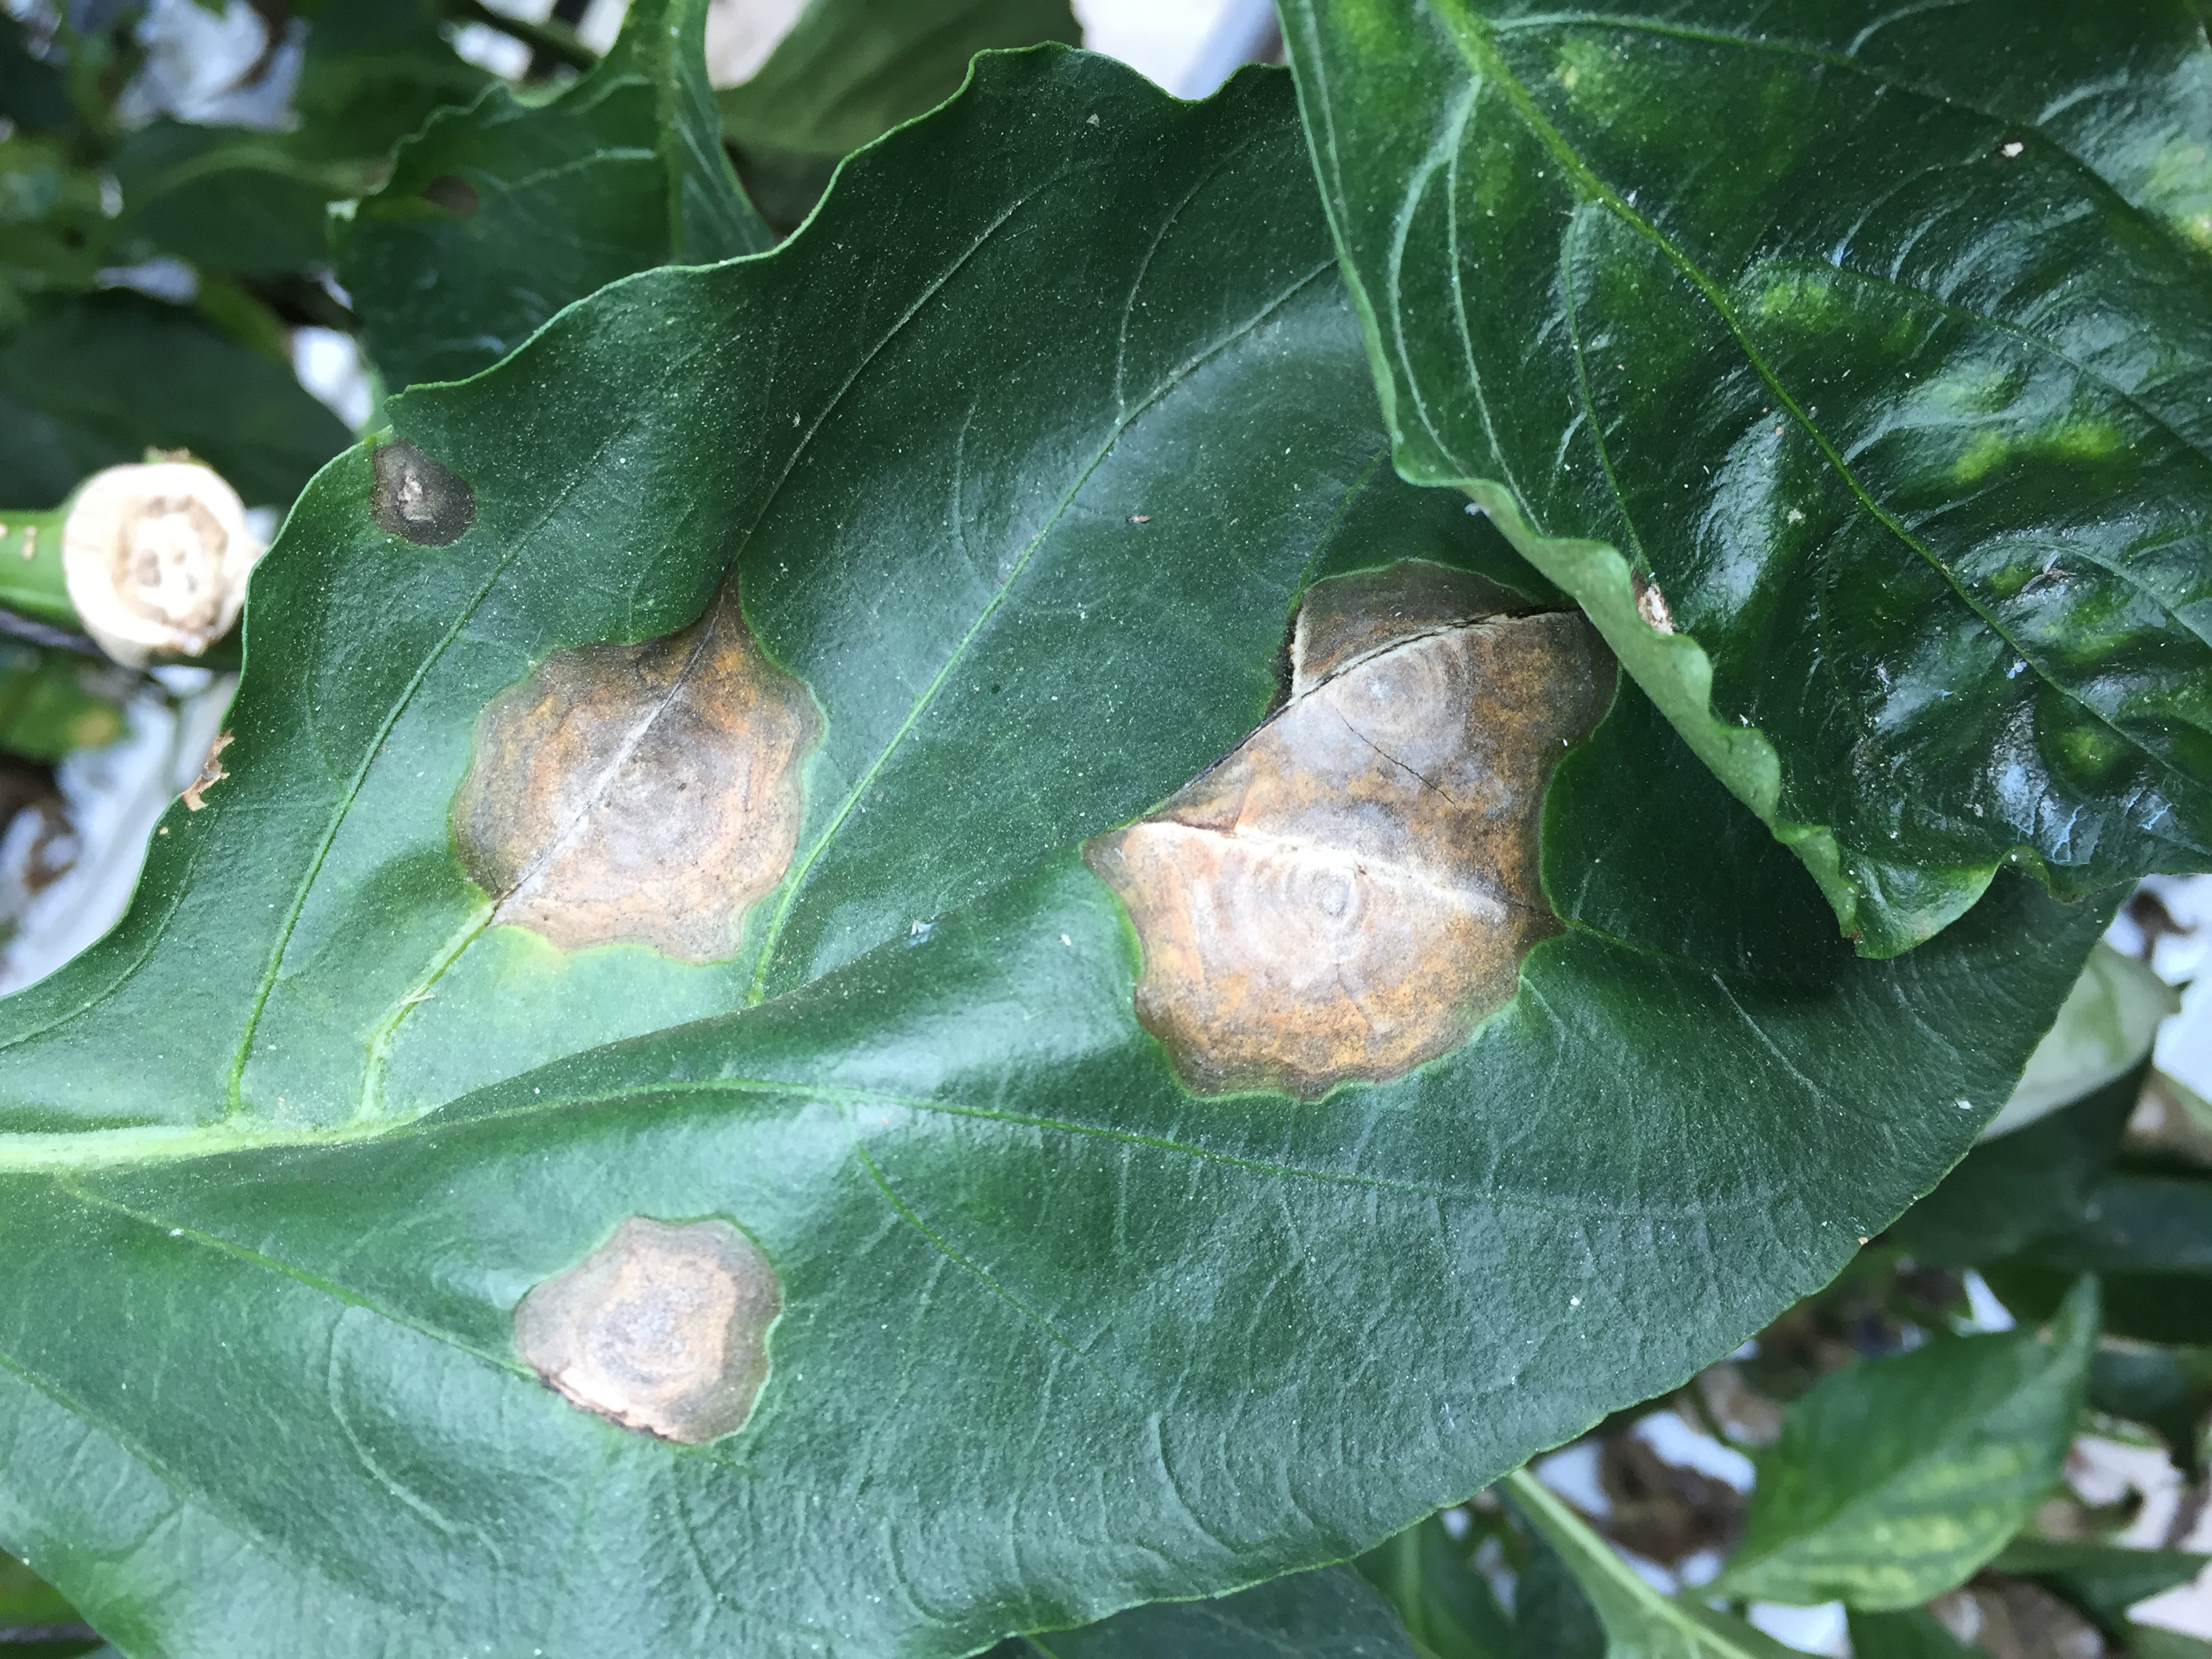spotting_disease: (1062, 525, 1707, 1112), (444, 544, 824, 967), (477, 1183, 801, 1467), (361, 425, 482, 568)
